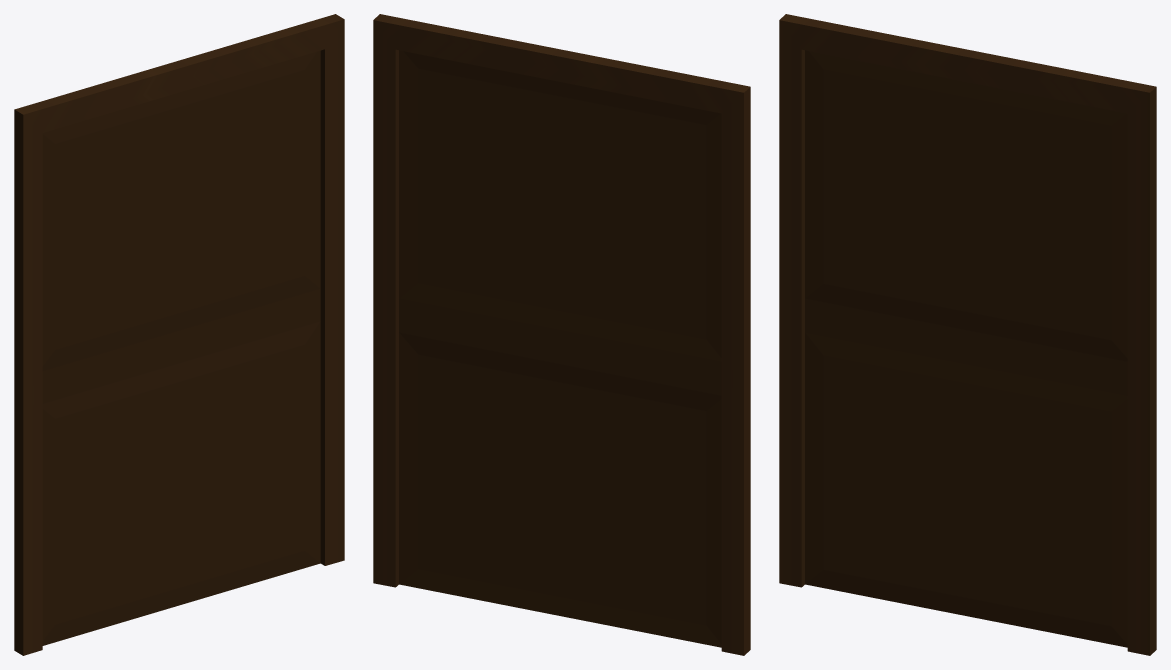
File: Vedals Door.glb
3 renders of one model, left to right at view 1: azimuth 30°, elevation 25°; view 2: azimuth 150°, elevation 25°; view 3: azimuth 330°, elevation 25°, orthographic. The views are drawn at different scales.
Visible parts, largest first — view 1: Upper furniture.001; view 2: Upper furniture.001; view 3: Upper furniture.001.
Part boxes in pixels (<box>): Upper furniture.001: <box>14,14,344,655</box>; Upper furniture.001: <box>373,14,750,655</box>; Upper furniture.001: <box>779,14,1156,655</box>.
Size of the model in its own units: 1.24 by 1.89 by 0.1592.
Materials: 1 (1 with a texture image).
